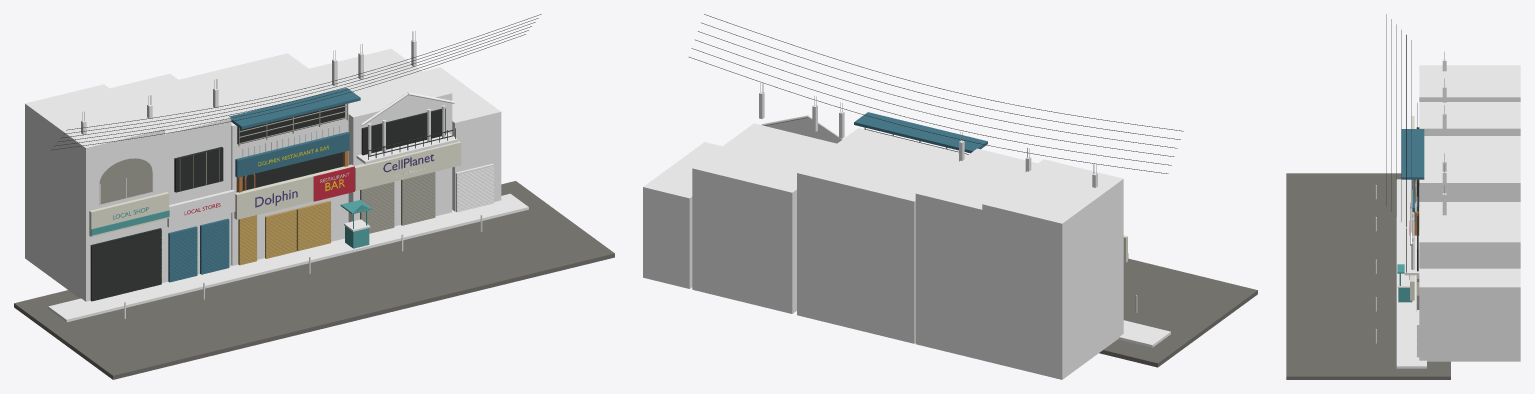
The model's file is dolphin_shop_row.glb.
3 renders of one model, left to right at view 1: azimuth 30°, elevation 25°; view 2: azimuth 150°, elevation 25°; view 3: azimuth 270°, elevation 25°, orthographic. The views are drawn at different scales.
Parts seen in each view (by area): view 1: Street base, Left arched shop, Dolphin restaurant, Old blue shutter shop, Raised pavement, Cellplanet, Right neighboring shop, Left dark shutter, Cellplanet signboard, Dolphin main sign, Upper blue restaurant sign, Cellplanet balcony shadow (+25 smaller); view 2: Left arched shop, Dolphin restaurant, Cellplanet, Old blue shutter shop, Street base, Right neighboring shop, Dolphin roof canopy, Raised pavement, Cellplanet pediment, Overhead wire, Overhead wire.002, Overhead wire.003 (+3 smaller); view 3: Street base, Right neighboring shop, Cellplanet, Dolphin restaurant, Left arched shop, Old blue shutter shop, Raised pavement, Dolphin roof canopy, Cellplanet balcony slab.
Boxes of the visible parts, x1,y1,x2,y2 form: Street base: (14,181,614,379); Left arched shop: (25,84,164,301); Dolphin restaurant: (179,53,348,265); Old blue shutter shop: (110,73,231,282); Raised pavement: (48,193,528,322); Cellplanet: (309,48,452,226); Right neighboring shop: (423,67,501,211); Left dark shutter: (90,228,161,301); Cellplanet signboard: (354,140,461,190); Dolphin main sign: (234,164,353,219); Upper blue restaurant sign: (235,132,349,177); Cellplanet balcony shadow: (361,108,445,155); Left arched shop: (982,159,1123,379); Dolphin restaurant: (797,128,968,343); Cellplanet: (692,123,836,313); Old blue shutter shop: (915,148,1037,360); Street base: (1099,258,1257,367); Right neighboring shop: (643,142,721,288); Dolphin roof canopy: (854,112,987,153); Raised pavement: (1118,320,1170,347); Cellplanet pediment: (766,118,841,143); Overhead wire: (689,57,1168,173); Overhead wire.002: (695,39,1174,156); Overhead wire.003: (698,31,1177,148); Street base: (1286,173,1450,379); Right neighboring shop: (1419,268,1520,361); Cellplanet: (1419,202,1520,268); Dolphin restaurant: (1419,136,1520,201); Left arched shop: (1419,65,1520,101); Old blue shutter shop: (1419,102,1520,135); Raised pavement: (1396,179,1426,368); Dolphin roof canopy: (1401,129,1424,179); Cellplanet balcony slab: (1404,235,1419,275).
Bounding box in the file's own units: 38 × 14.66 × 18.5.
